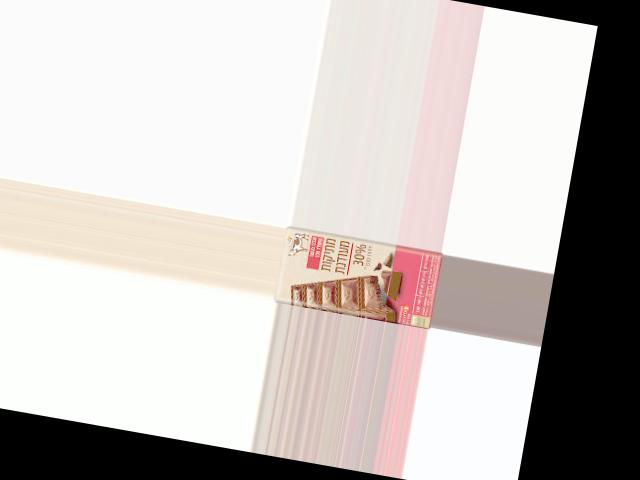chocolate: (273, 224, 442, 328)
